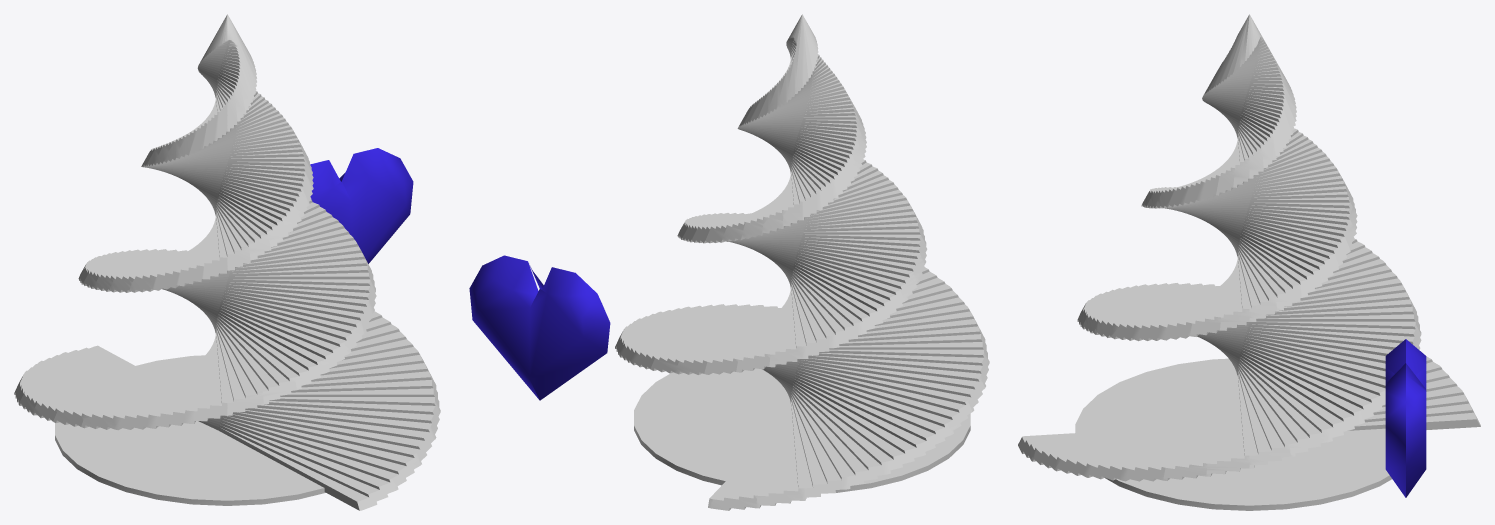
Rendered from sirve.gltf.
The picture shows the model from 3 angles, left to right: view 1: azimuth 30°, elevation 25°; view 2: azimuth 150°, elevation 25°; view 3: azimuth 270°, elevation 25°; orthographic projection. The views are drawn at different scales.
Parts seen in each view (by area): view 1: Mesh_0, Mesh_0.001; view 2: Mesh_0, Mesh_0.001; view 3: Mesh_0, Mesh_0.001.
Part boxes in pixels (<box>): Mesh_0: <box>14,14,440,510</box>; Mesh_0.001: <box>310,148,413,263</box>; Mesh_0: <box>615,14,989,510</box>; Mesh_0.001: <box>469,255,610,400</box>; Mesh_0: <box>1018,14,1480,510</box>; Mesh_0.001: <box>1385,339,1426,497</box>.
Size of the model in its own units: 8.76 by 8 by 7.93.
